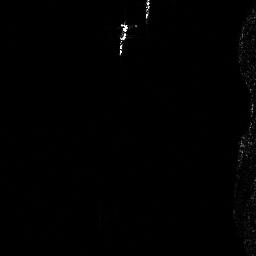ship: (118, 22, 129, 56)
